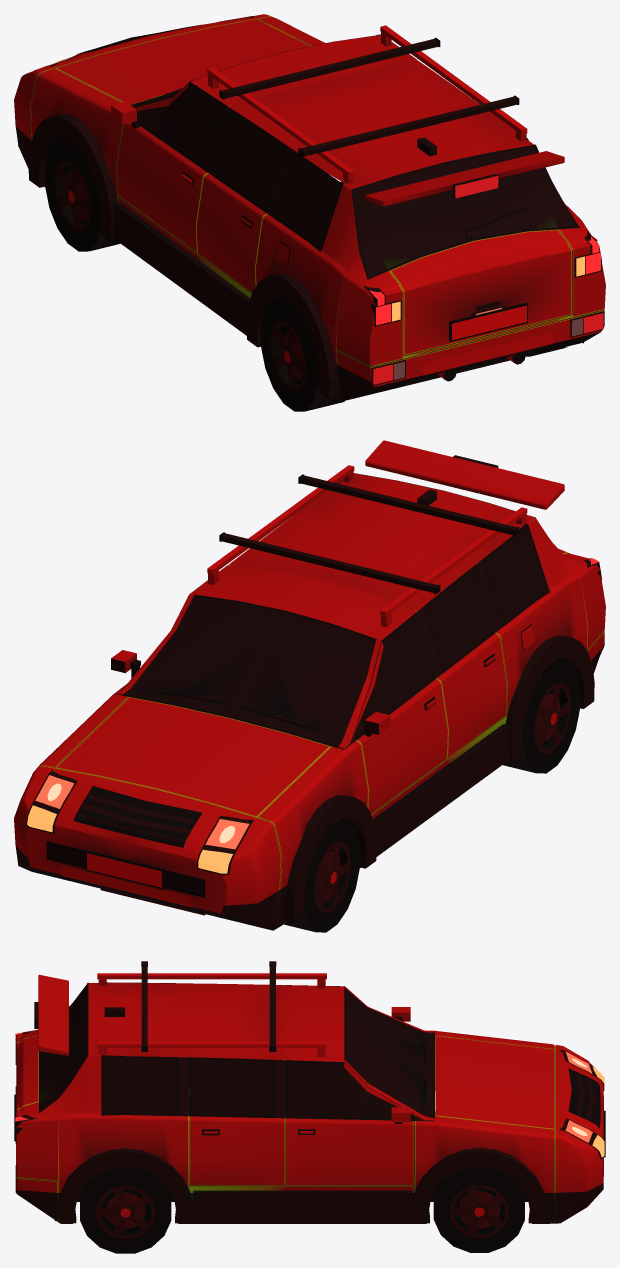
File: body.glb
The picture shows the model from 3 angles, top to bottom: view 1: azimuth 30°, elevation 25°; view 2: azimuth 150°, elevation 25°; view 3: azimuth 270°, elevation 25°; orthographic projection. The views are drawn at different scales.
Parts seen in each view (by area): view 1: body, hatch, glass_backlight, hood, door_l, clad_sill_l, door_rl, wheel_rl_mesh, wheel_fl_mesh, fender_fl, rack_bars, glass_door_l (+18 smaller); view 2: body, glass_windshield, hood, bumper_f, door_l, grille, fender_fl, spoiler, clad_sill_l, door_rl, wheel_rl_mesh, wheel_fl_mesh (+17 smaller); view 3: body, hood, door_r, glass_windshield, clad_sill_r, door_rr, wheel_rr_mesh, wheel_fr_mesh, fender_fr, bumper_f, glass_door_r, glass_door_rr (+17 smaller).
Part boxes in pixels (x1,y1,x2,y2): body: (117,35,605,402); hatch: (390,229,571,355); glass_backlight: (351,146,576,276); hood: (55,19,310,104); door_l: (116,123,208,253); clad_sill_l: (114,202,250,335); door_rl: (196,173,267,292); wheel_rl_mesh: (261,299,343,411); wheel_fl_mesh: (45,139,120,251); fender_fl: (30,68,122,201); rack_bars: (219,38,519,157); glass_door_l: (140,83,227,172); body: (187,473,605,819); glass_windshield: (118,596,375,749); hood: (56,697,330,817); bumper_f: (14,766,281,930); door_l: (356,679,448,814); grille: (46,786,205,897); fender_fl: (257,740,368,927); spoiler: (365,440,564,509); clad_sill_l: (373,724,509,856); door_rl: (436,633,507,758); wheel_rl_mesh: (503,660,580,773); wheel_fl_mesh: (278,820,359,932); body: (16,982,414,1223); hood: (435,1036,554,1129); door_r: (285,1118,414,1185); glass_windshield: (344,986,434,1120); clad_sill_r: (193,1190,411,1220); door_rr: (189,1116,284,1185); wheel_rr_mesh: (80,1167,171,1253); wheel_fr_mesh: (433,1167,524,1252); fender_fr: (414,1116,554,1223); bumper_f: (554,1045,603,1223); glass_door_r: (287,1060,412,1119); glass_door_rr: (191,1057,272,1116).
Size of the model in its own units: 1.86 by 1.61 by 4.38.
